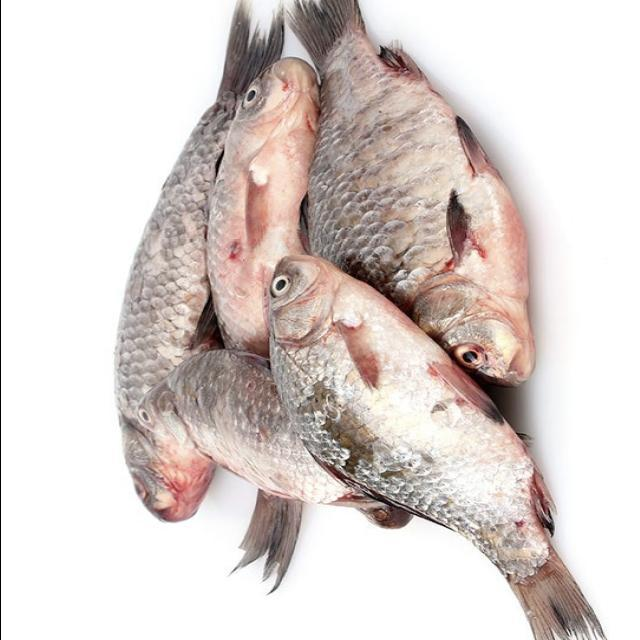fish: (267, 254, 601, 639), (288, 0, 532, 384), (114, 0, 281, 521), (136, 348, 380, 508), (206, 57, 315, 357), (235, 490, 302, 589)
